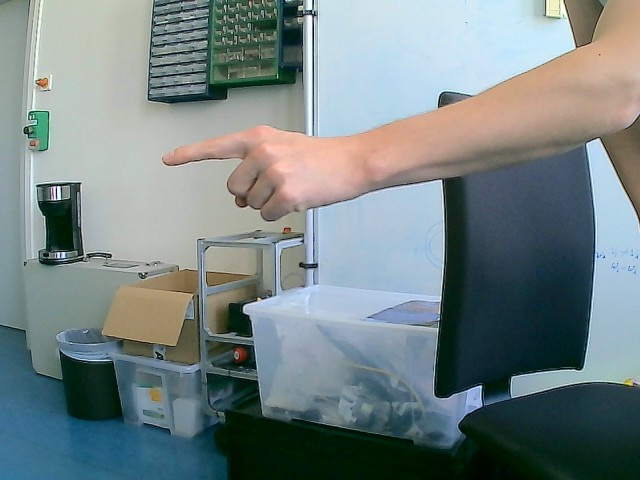right: (161, 124, 364, 222)
